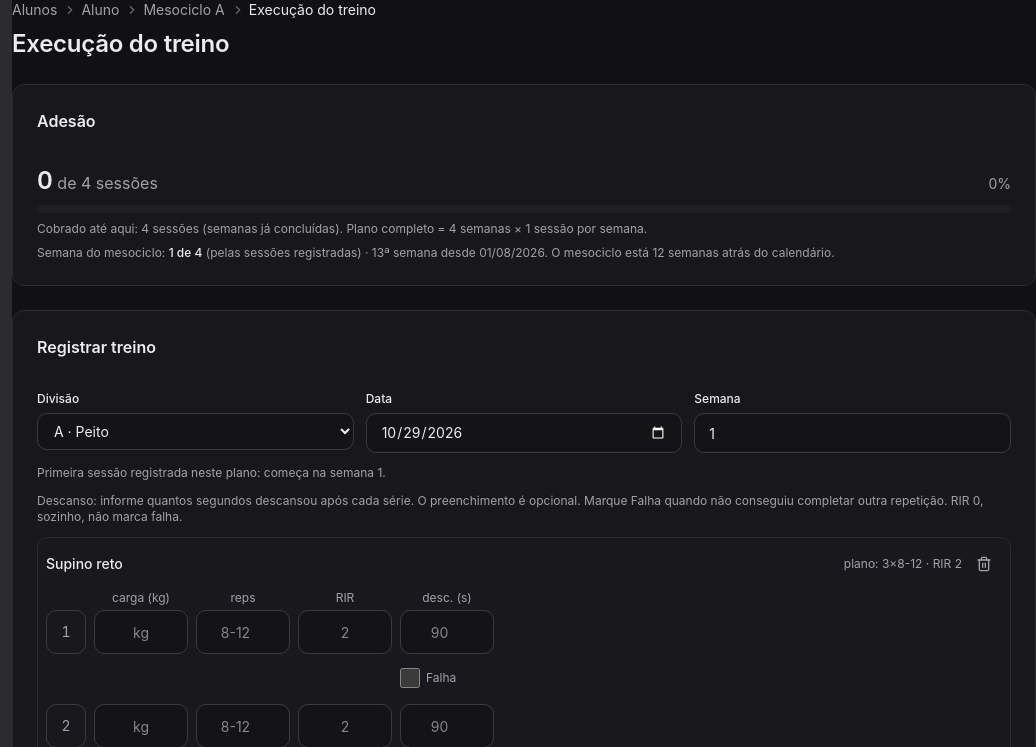
it: Execucao — descanso realizado › recusa descanso inválido (-1) sem apagar o que foi preenchido
Type "10" into the number field named "Repetições da série 1 de Supino reto" at (243, 632), box [196,610,290,654]
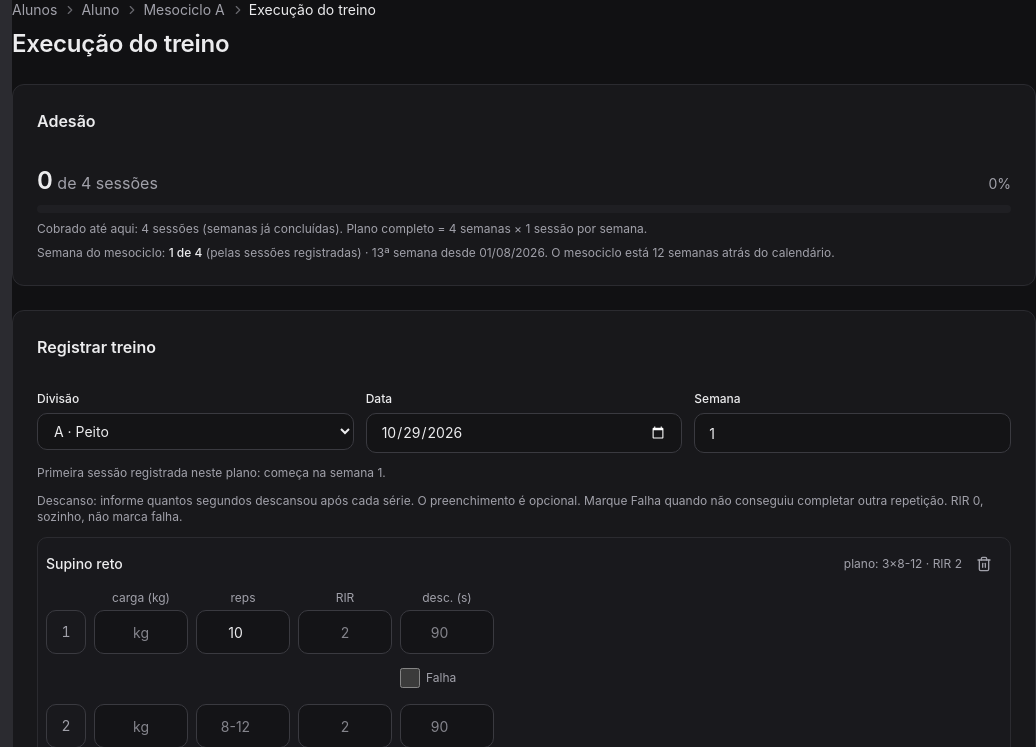
Type "-1" into the number field named "Descanso da série 1 de Supino reto" at (447, 632), box [400,610,494,654]
(page scrolled)
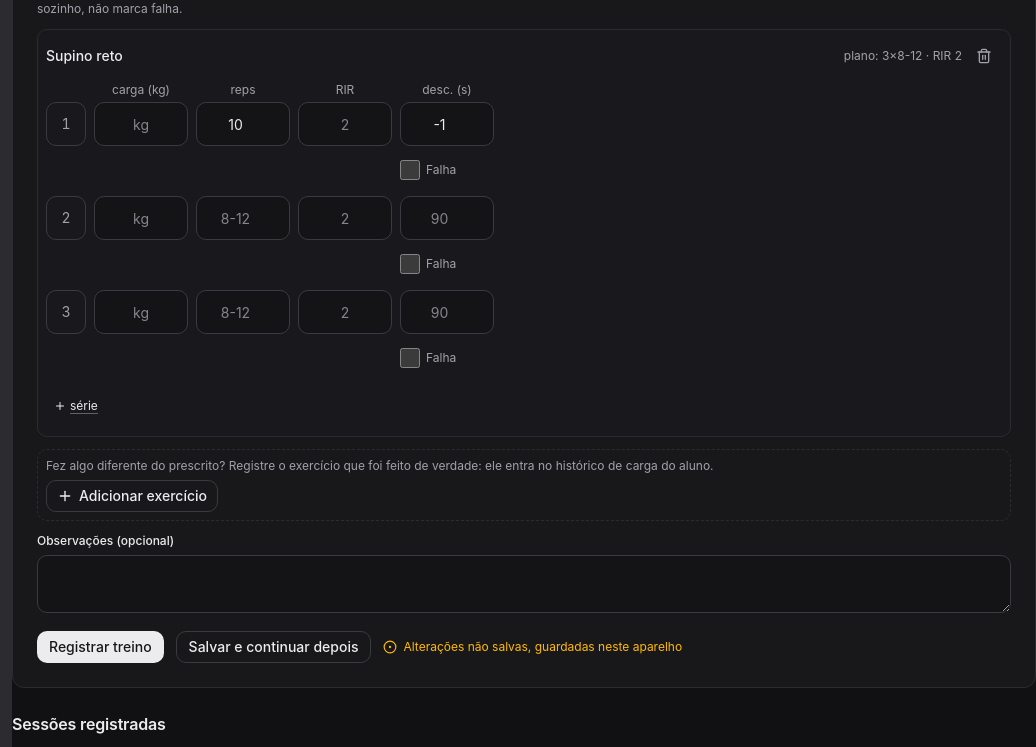
Click the button "Registrar treino" at (100, 647), box [37,631,164,663]
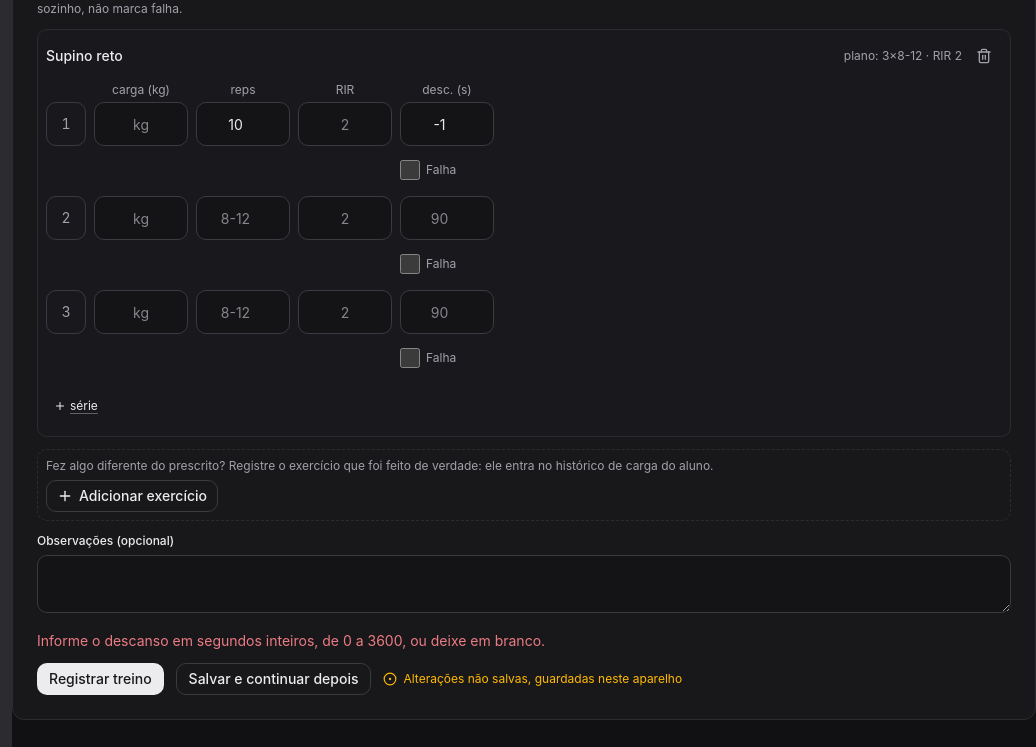
Expected: the message reads "Informe o descanso em segundos inteiros, de 0 a 3600, ou deixe em branco.", [37,632,545,649]
